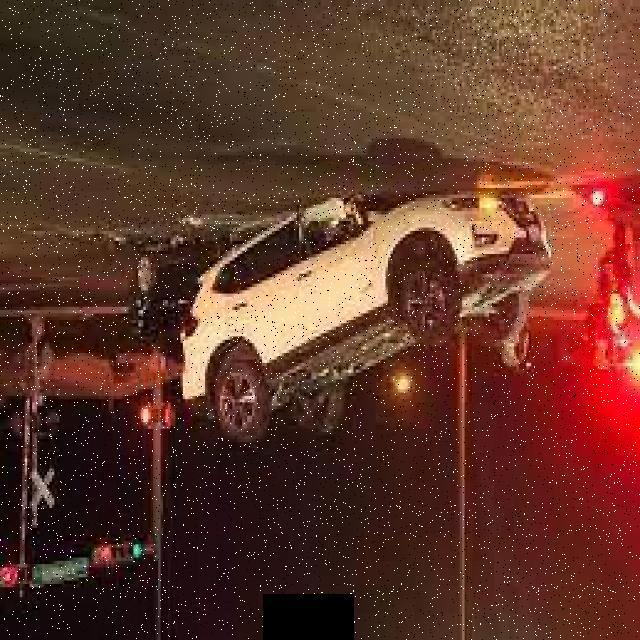severe: (175, 178, 554, 455)
